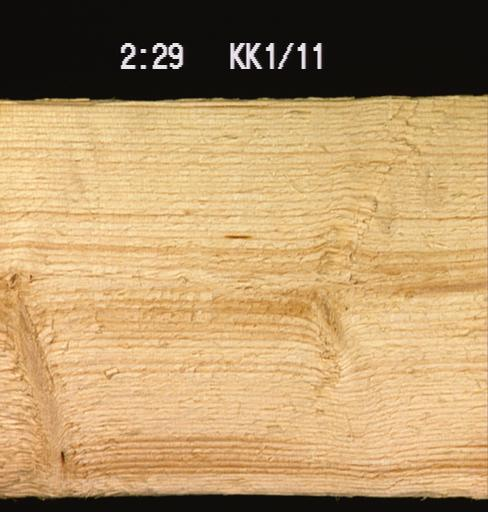small_knot: (0, 231, 84, 494)
split: (182, 97, 312, 119)
